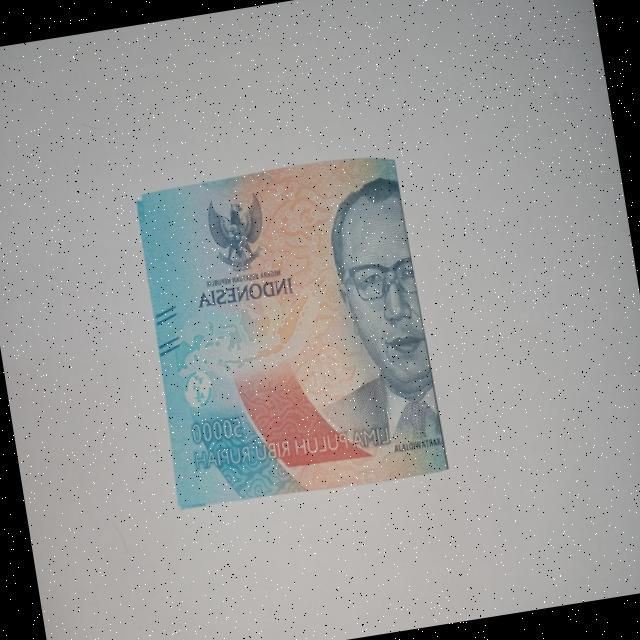50K: (113, 138, 460, 528)
